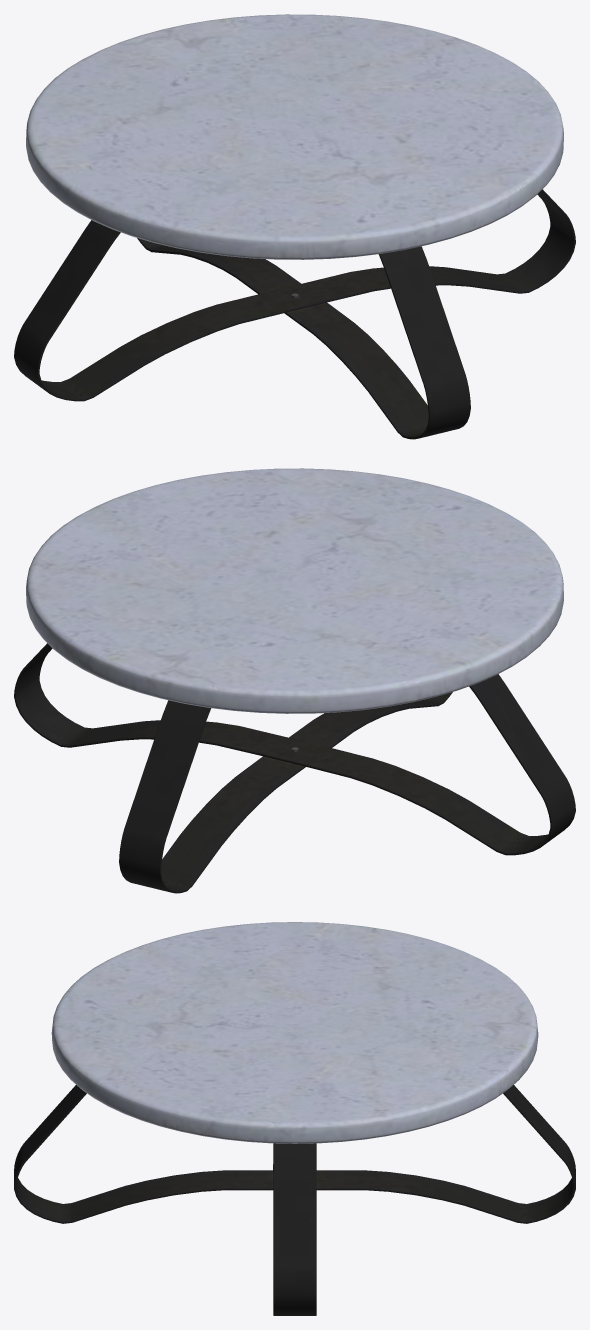
Rendered from ph-coffee-table.glb.
3 views of the same model, one above another, from view 1: azimuth 30°, elevation 25°; view 2: azimuth 150°, elevation 25°; view 3: azimuth 270°, elevation 25° (orthographic). The views are drawn at different scales.
Visible parts, largest first — view 1: coffee_table_round_01; view 2: coffee_table_round_01; view 3: coffee_table_round_01.
Boxes of the visible parts, x1,y1,x2,y2 form: coffee_table_round_01: (14, 14, 575, 439); coffee_table_round_01: (14, 468, 575, 893); coffee_table_round_01: (14, 922, 575, 1315).
Size of the model in its own units: 1.3 by 0.491 by 1.3.
Materials: 1 (1 with a texture image).
